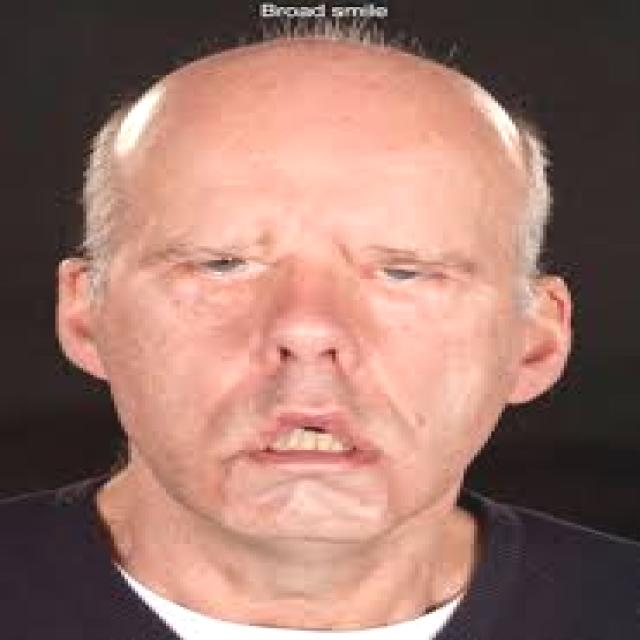stroke_face: (124, 79, 508, 538)
